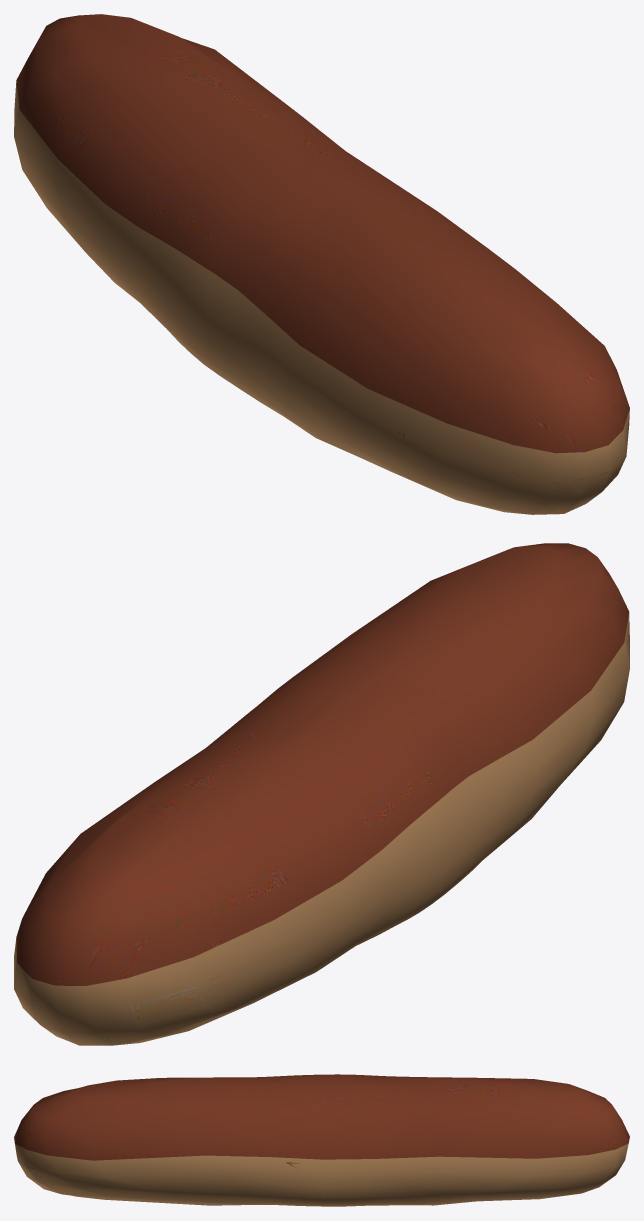
Rendered from eclair_coin.fbx.
3 renders of one model, top to bottom at view 1: azimuth 30°, elevation 25°; view 2: azimuth 150°, elevation 25°; view 3: azimuth 270°, elevation 25°, orthographic. The views are drawn at different scales.
Parts seen in each view (by area): view 1: Sphere; view 2: Sphere; view 3: Sphere.
Boxes of the visible parts, bbox=[...] form: Sphere: bbox=[14, 14, 629, 514]; Sphere: bbox=[14, 543, 629, 1045]; Sphere: bbox=[14, 1074, 629, 1206].
Bounding box in the file's own units: 181 × 144 × 695.
